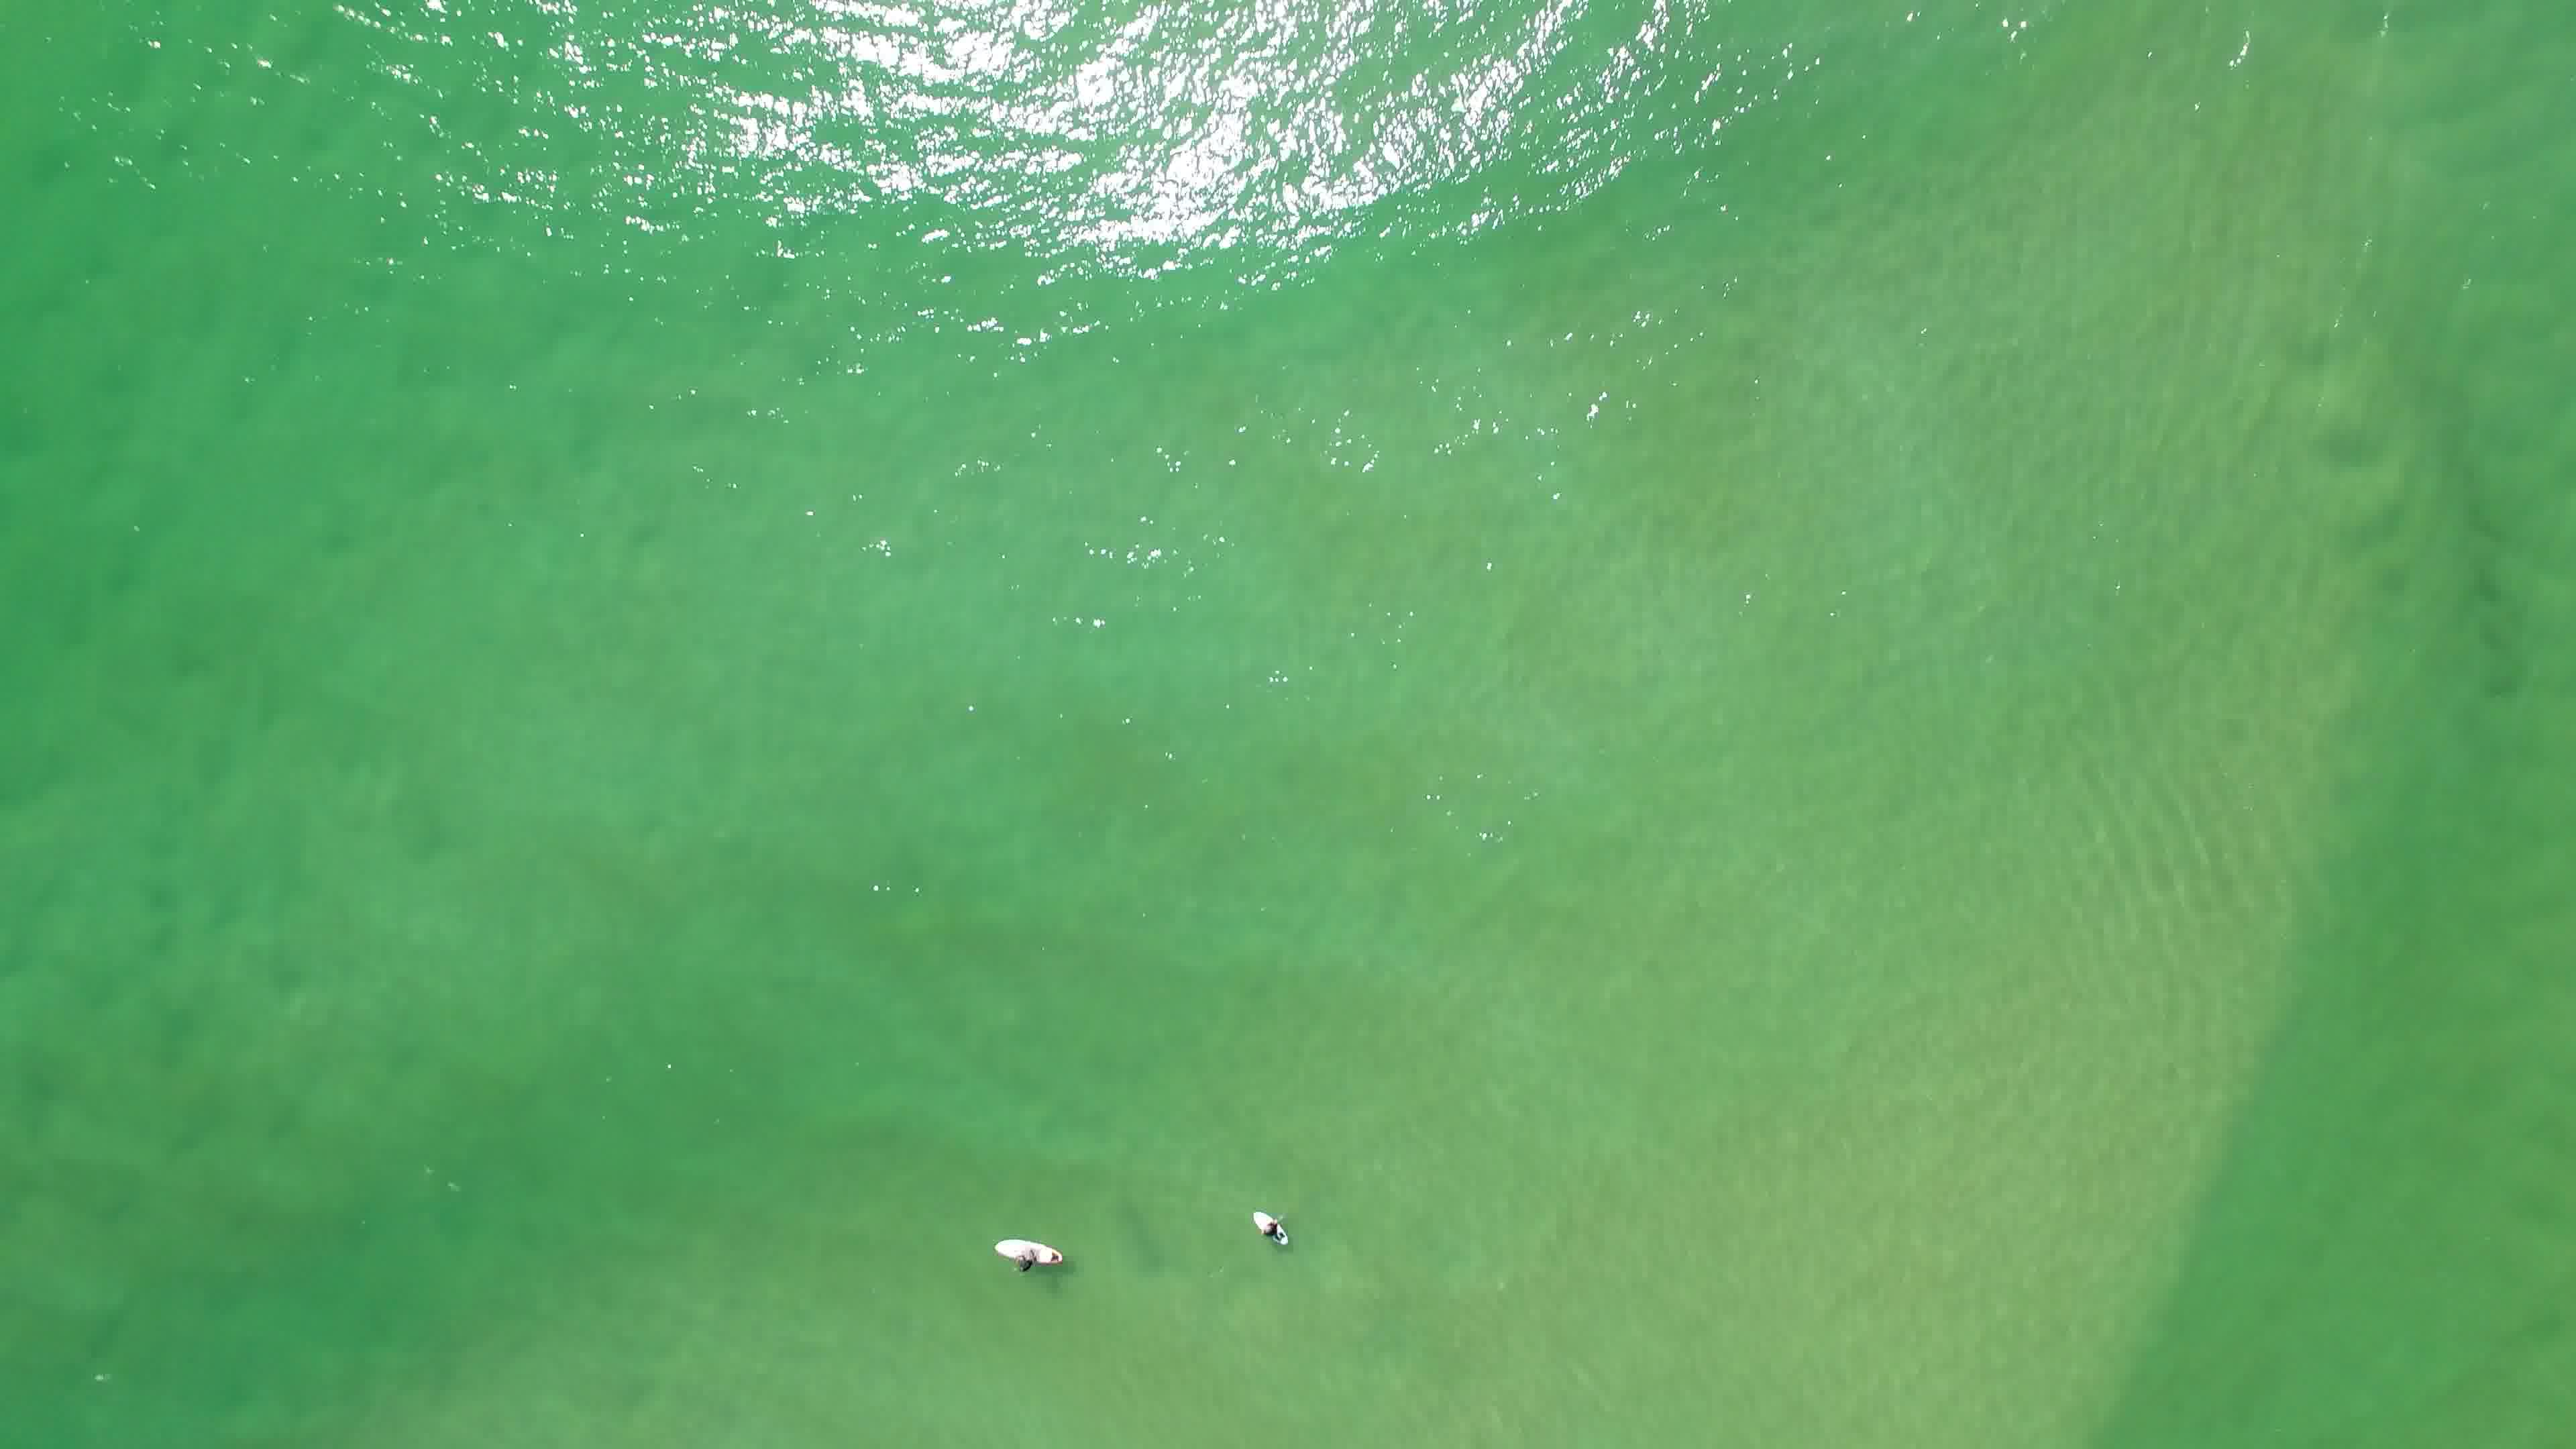surfer: (989, 1228, 1076, 1281), (1246, 1207, 1300, 1253)
